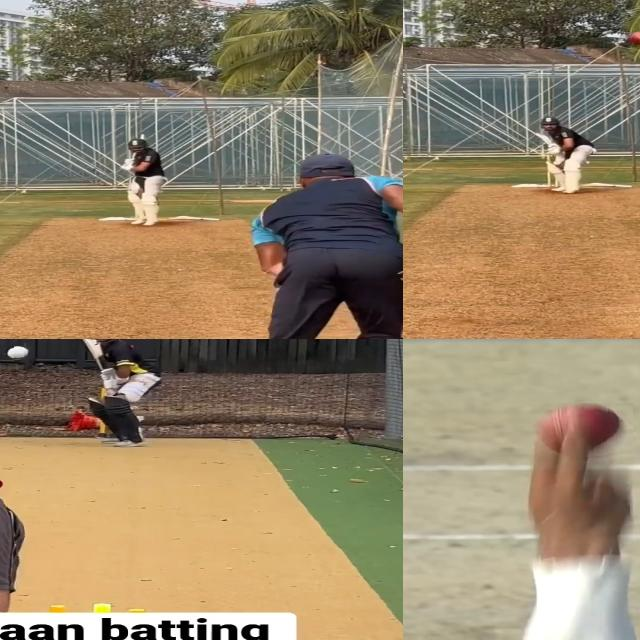Cricket ball: (533, 403, 633, 461), (7, 346, 30, 362), (624, 31, 640, 47)
